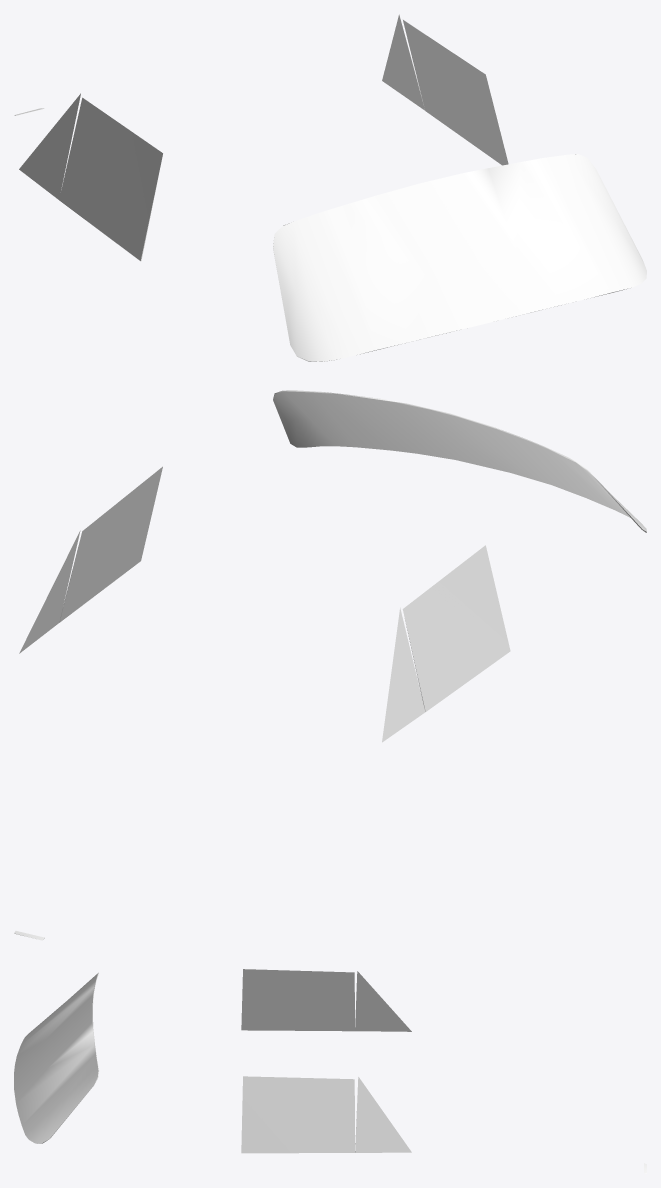
The picture shows the model from 3 angles, top to bottom: view 1: azimuth 30°, elevation 25°; view 2: azimuth 150°, elevation 25°; view 3: azimuth 270°, elevation 25°; orthographic projection. The views are drawn at different scales.
Size of the model in its own units: 1.41 by 0.839 by 3.07.
1 material, 1 textured.
